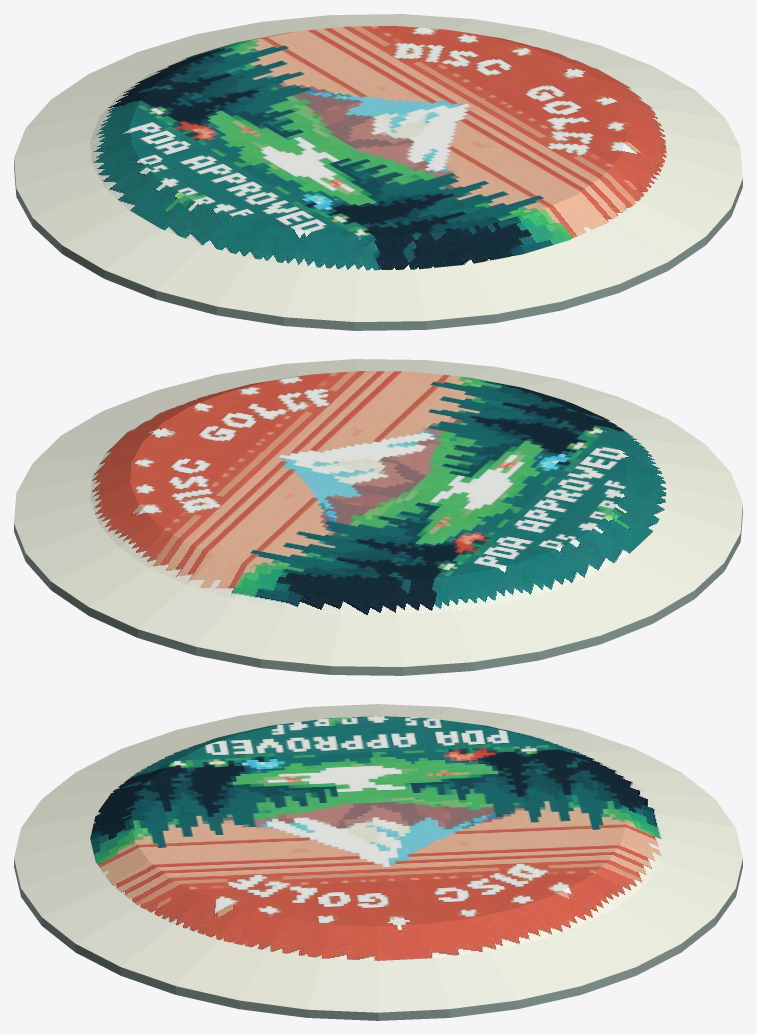
Rendered from DiscMTN.glb.
3 renders of one model, top to bottom at view 1: azimuth 30°, elevation 25°; view 2: azimuth 150°, elevation 25°; view 3: azimuth 270°, elevation 25°, orthographic.
Visible parts, largest first — view 1: Plane; view 2: Plane; view 3: Plane.
Part boxes in pixels (x1,y1,x2,y2): Plane: [14, 14, 742, 330]; Plane: [14, 359, 742, 675]; Plane: [14, 704, 742, 1020].
Bounding box in the file's own units: 2.29 × 0.1588 × 2.29.
1 material, 1 textured.
